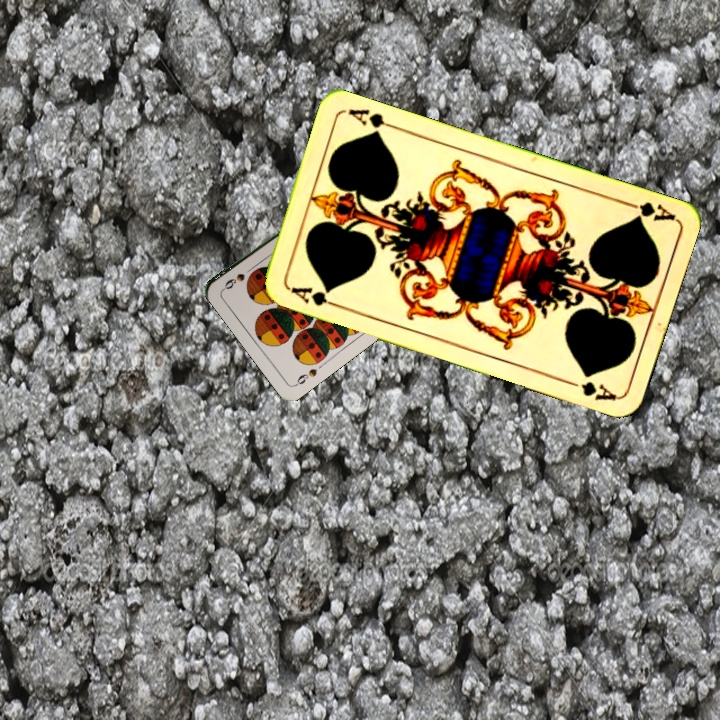GA: (618, 196, 677, 224), (285, 283, 342, 310)
S9: (291, 364, 320, 389)
